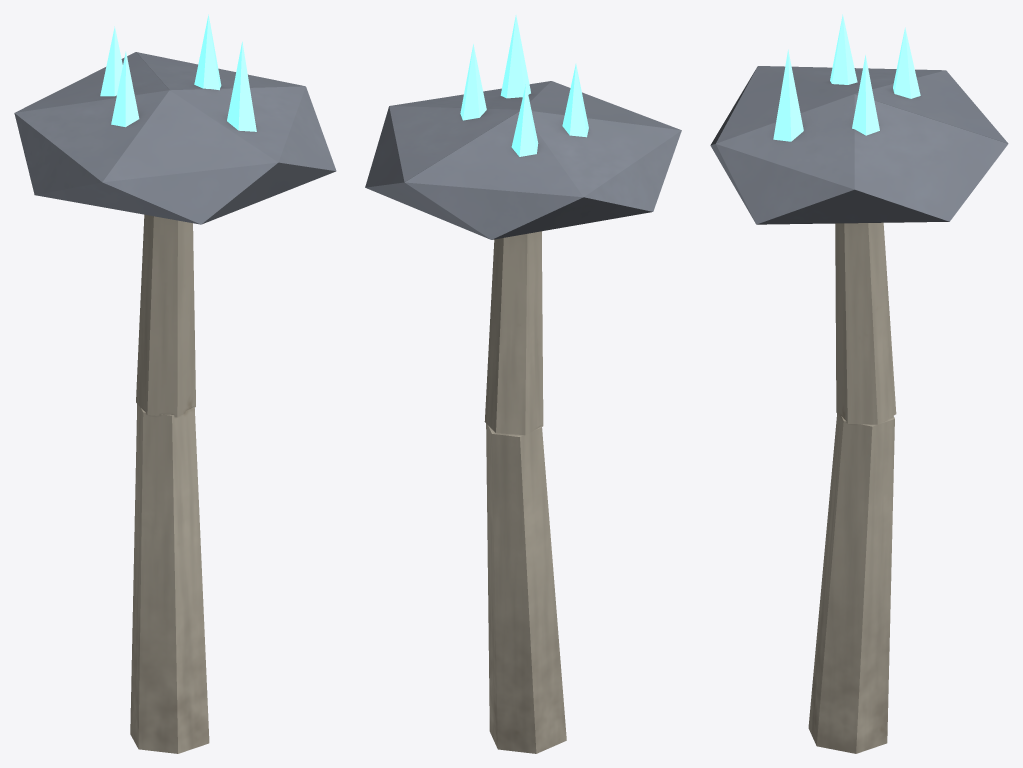
The model's file is arv_fungo_cristal_5.glb.
The picture shows the model from 3 angles, left to right: view 1: azimuth 30°, elevation 25°; view 2: azimuth 150°, elevation 25°; view 3: azimuth 270°, elevation 25°; orthographic projection. The views are drawn at different scales.
Visible parts, largest first — view 1: arv_fungo_cristal_5; view 2: arv_fungo_cristal_5; view 3: arv_fungo_cristal_5.
Part boxes in pixels (x1=…): arv_fungo_cristal_5: x1=14, y1=14, x2=336, y2=753; arv_fungo_cristal_5: x1=365, y1=15, x2=681, y2=753; arv_fungo_cristal_5: x1=710, y1=14, x2=1008, y2=753.
Bounding box in the file's own units: 0.8251 × 2.07 × 0.7877.
2 materials, 1 textured.
